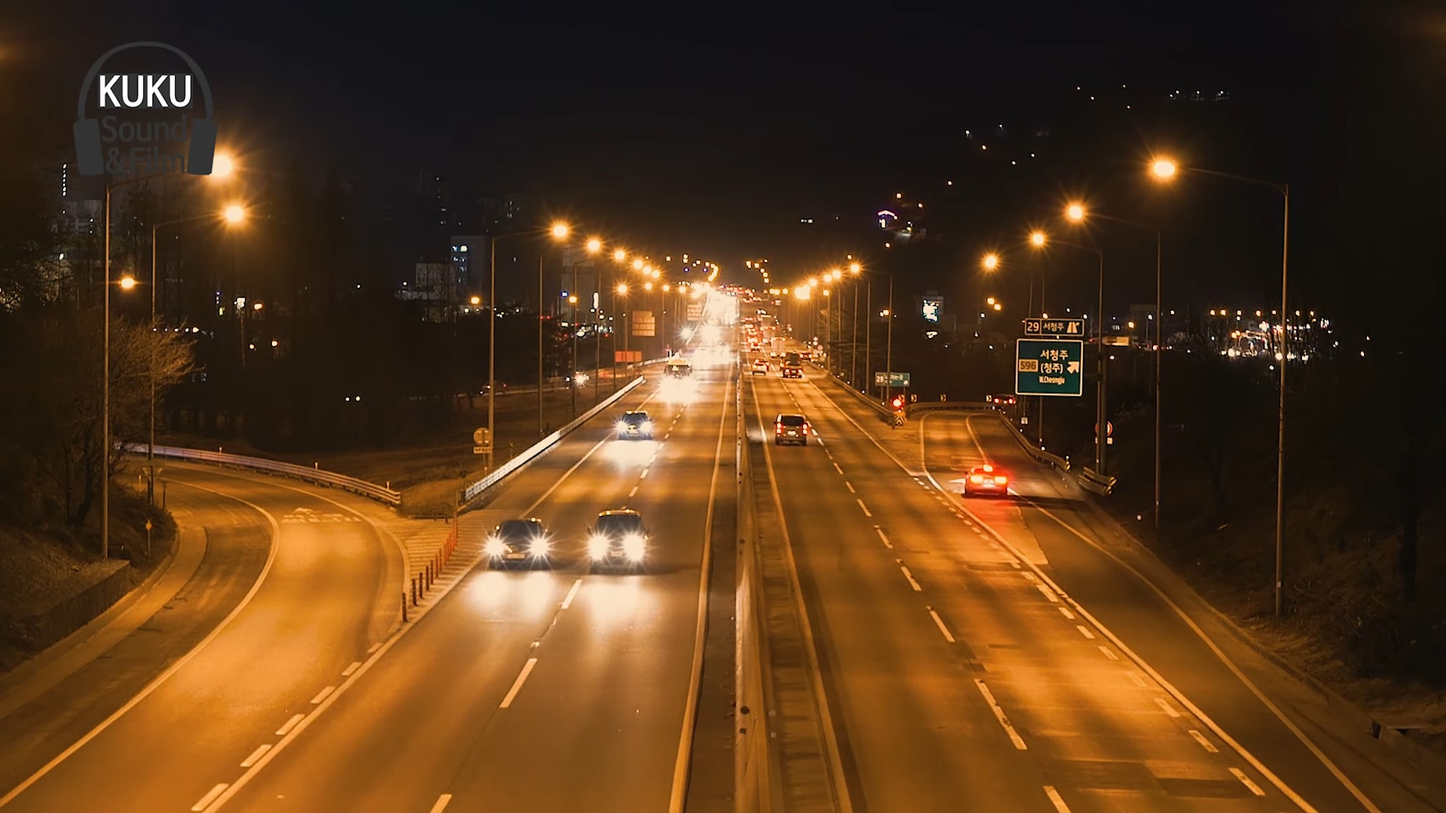car: (581, 510, 654, 577), (487, 517, 548, 572), (961, 463, 1008, 498), (772, 411, 812, 450), (608, 411, 660, 440)
